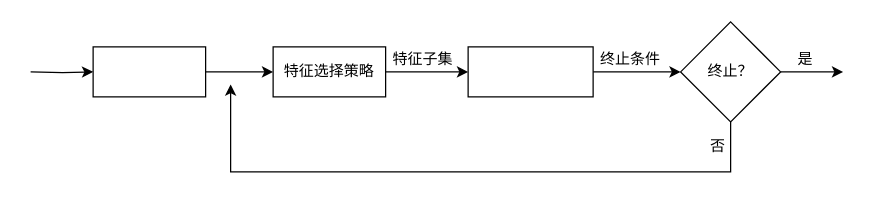
The diagram is 875 pixels wide and 204 high, and some of its shapes have lost their labels. The shapes that lost their labels are listed below. From the top down, each one's centre as x and y in pixels, then its label:
At (x=149, y=71): "初始特征集合".
At (x=530, y=71): "评估函数".
